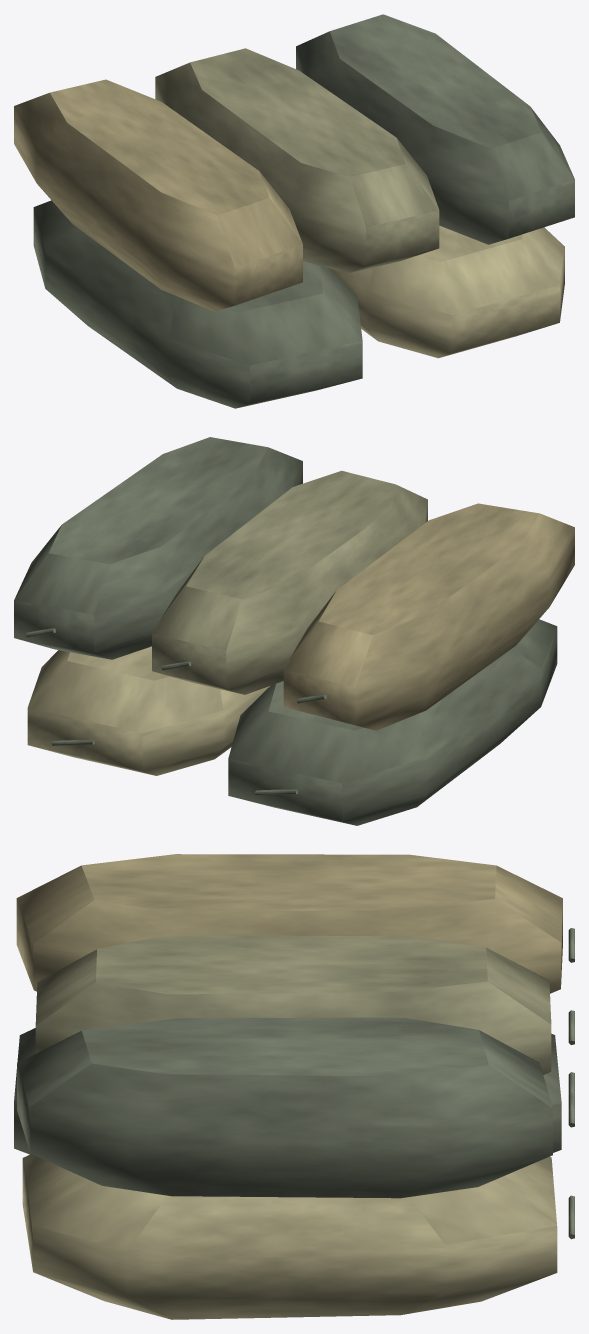
Rendered from stone-block-2.fbx.
3 views of the same model, one above another, from view 1: azimuth 30°, elevation 25°; view 2: azimuth 150°, elevation 25°; view 3: azimuth 270°, elevation 25° (orthographic). The views are drawn at different scales.
Visible parts, largest first — view 1: stone-block-2__Geometry; view 2: stone-block-2__Geometry; view 3: stone-block-2__Geometry.
Boxes of the visible parts, x1=… form: stone-block-2__Geometry: x1=14, y1=14, x2=574, y2=408; stone-block-2__Geometry: x1=14, y1=437, x2=574, y2=825; stone-block-2__Geometry: x1=14, y1=854, x2=574, y2=1319.
Bounding box in the file's own units: 0.9753 × 0.4728 × 0.9599.
1 material, 1 textured.
